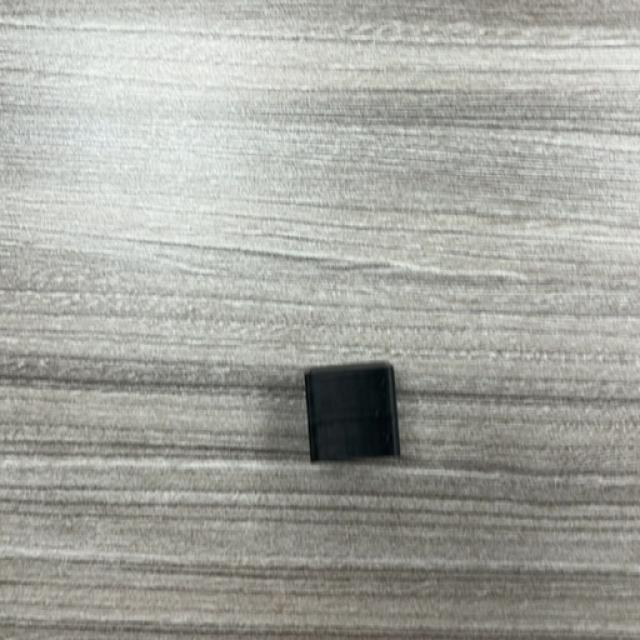Negro: (305, 362, 403, 465)
